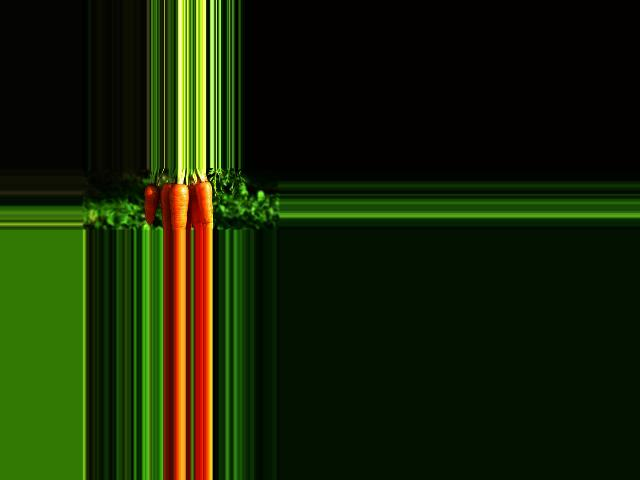carrot: (140, 183, 161, 231)
